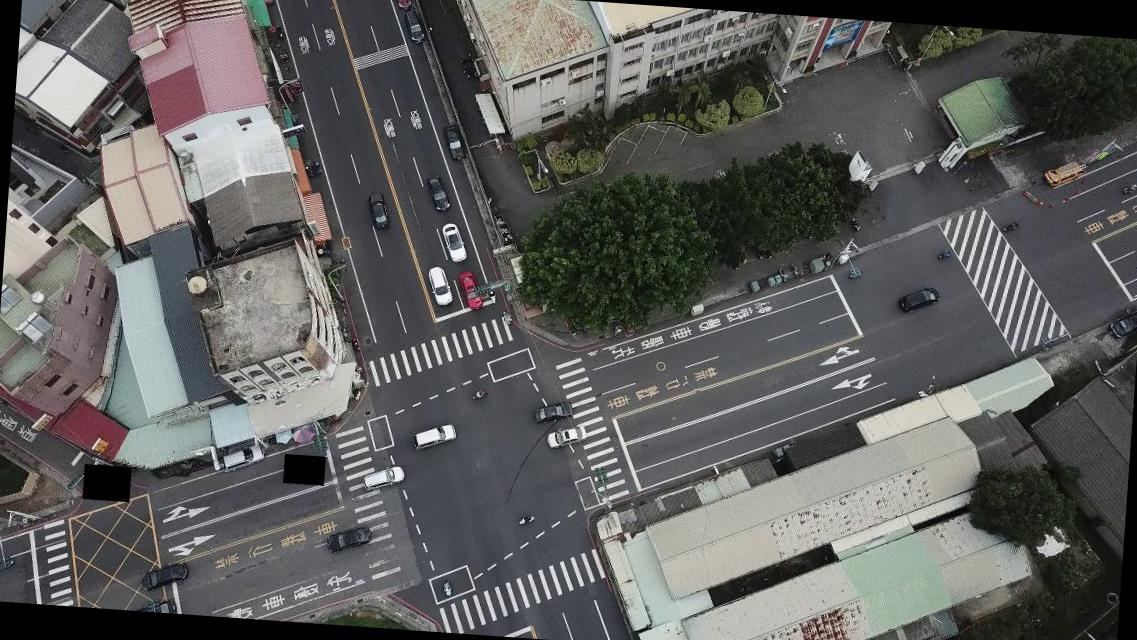vehicle: (139, 559, 189, 595), (326, 522, 371, 556), (412, 421, 458, 454), (439, 222, 470, 265), (898, 284, 942, 314), (221, 443, 264, 473), (362, 463, 406, 492), (426, 265, 456, 307), (532, 398, 574, 427), (545, 422, 588, 450), (1044, 160, 1086, 188), (458, 270, 484, 312), (425, 174, 451, 214), (366, 190, 391, 228), (402, 8, 428, 44), (441, 125, 466, 162)
